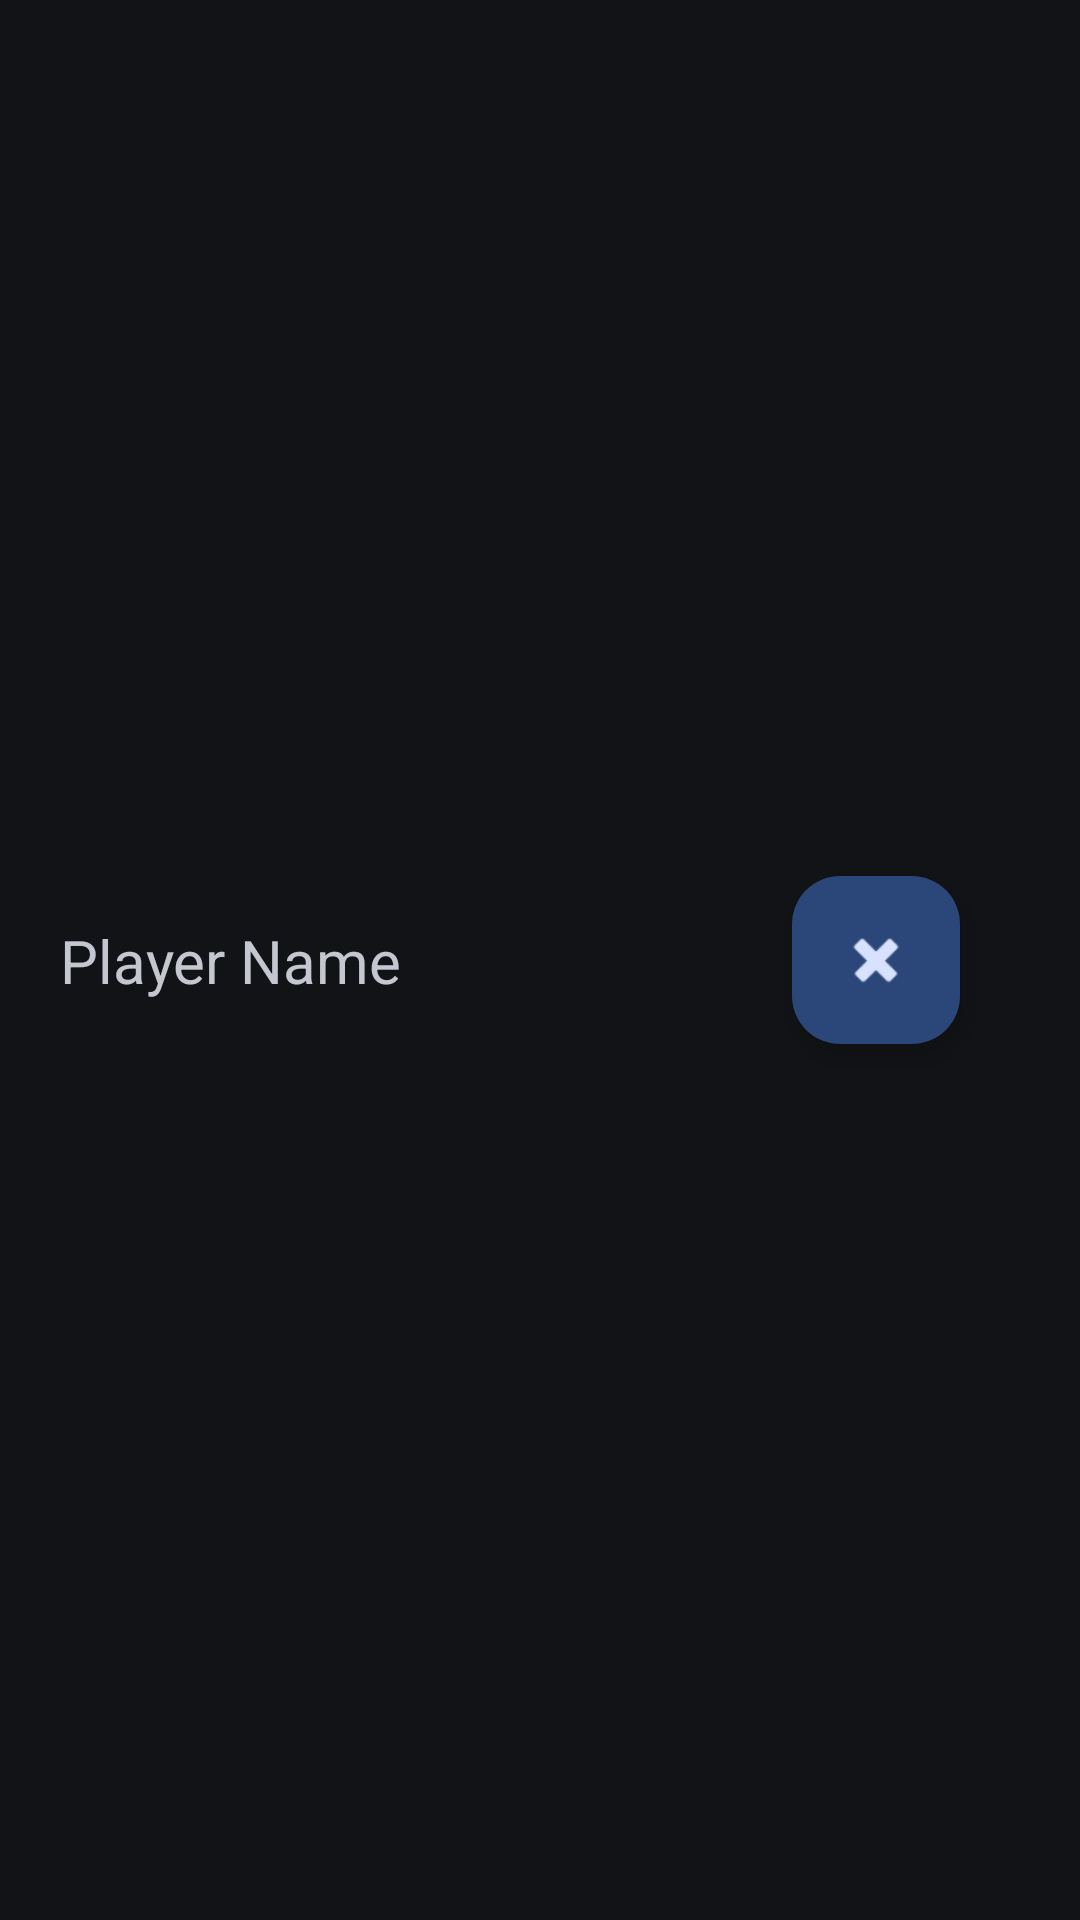

Screen size 1080w x 1920h. Icon name, then its box in pixels as (x1, y1, x2, y2):
delete: (792, 876, 960, 1044)
